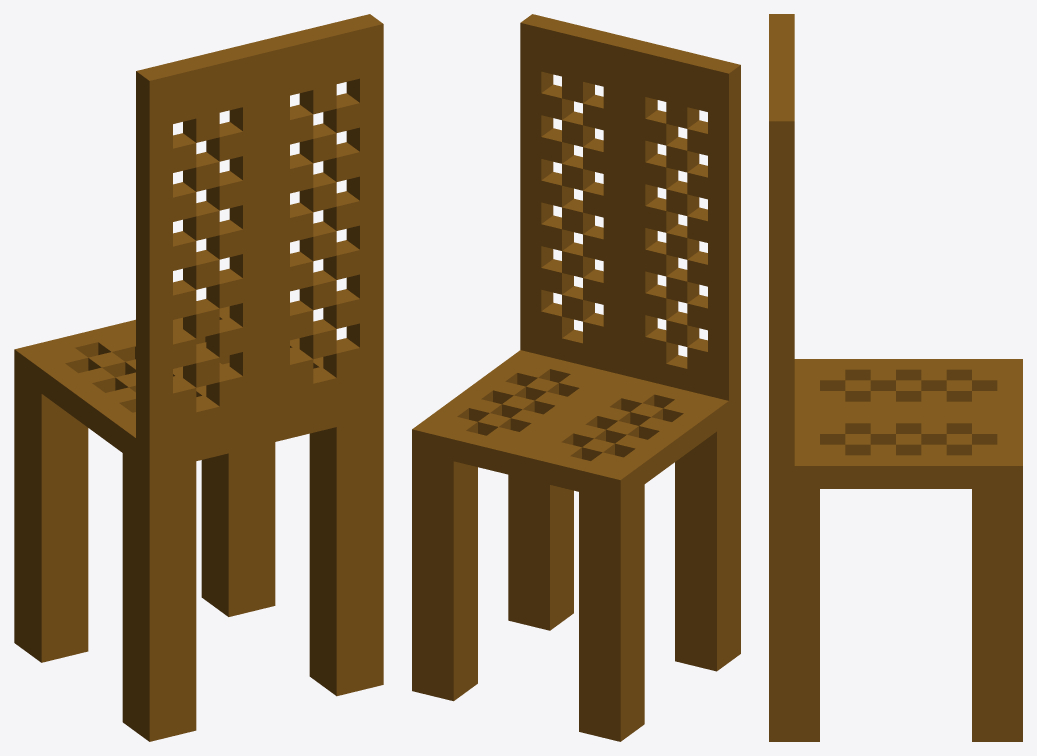
File: Chair For PC-0-Chair.obj
3 renders of one model, left to right at view 1: azimuth 30°, elevation 25°; view 2: azimuth 150°, elevation 25°; view 3: azimuth 270°, elevation 25°, orthographic. The views are drawn at different scales.
Parts seen in each view (by area): view 1: Chair; view 2: Chair; view 3: Chair.
Boxes of the visible parts, <box> form: Chair: <box>14,14,383,741</box>; Chair: <box>412,14,740,741</box>; Chair: <box>769,14,1022,741</box>.
Size of the model in its own units: 1 by 2.7 by 1.
1 material, 1 textured.
